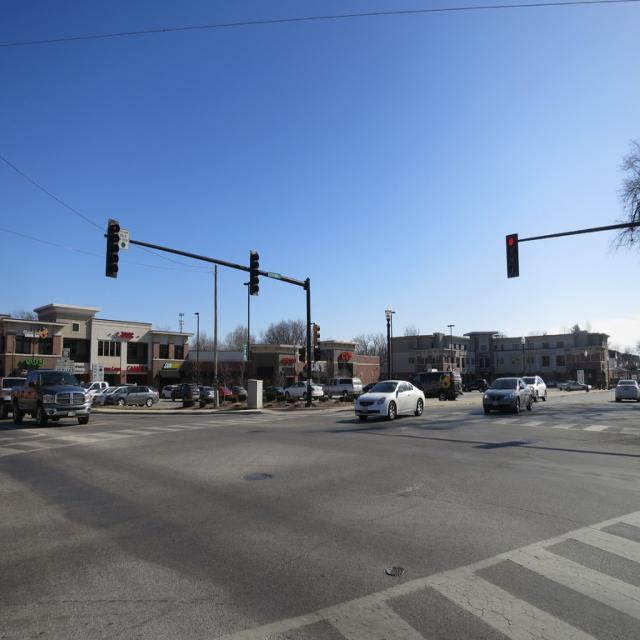off traffic light: (107, 219, 120, 276), (249, 251, 260, 293)
traffic light: (506, 234, 520, 277)
